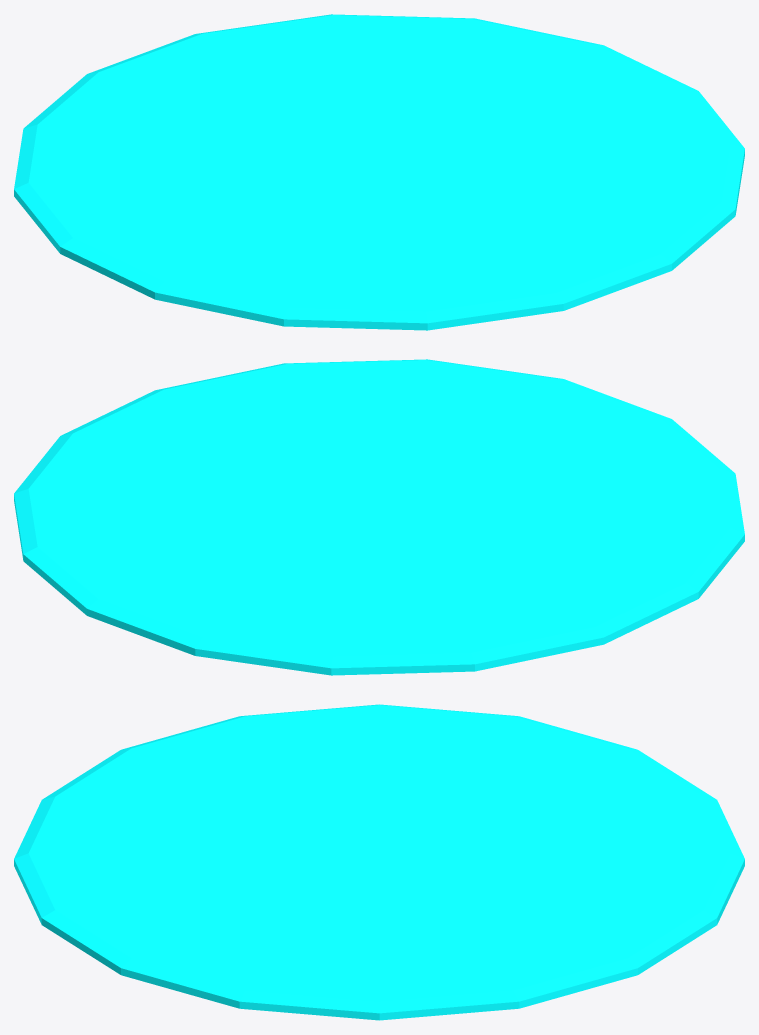
3 renders of one model, top to bottom at view 1: azimuth 30°, elevation 25°; view 2: azimuth 150°, elevation 25°; view 3: azimuth 270°, elevation 25°, orthographic.
Visible parts, largest first — view 1: BasePlatform.004; view 2: BasePlatform.004; view 3: BasePlatform.004.
Part boxes in pixels (x1,y1,x2,y2): BasePlatform.004: (14,14,744,330); BasePlatform.004: (14,359,744,675); BasePlatform.004: (14,704,744,1020).
Size of what is drawn, in the model's own units: 4.06 by 0.0778 by 4.06.
Materials: 1 (1 with a texture image).
